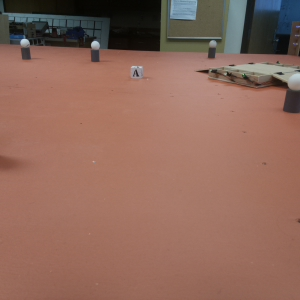obstacle: (287, 75, 300, 117), (20, 38, 33, 63), (208, 40, 217, 62), (91, 41, 100, 62)
side: (209, 67, 260, 86)
